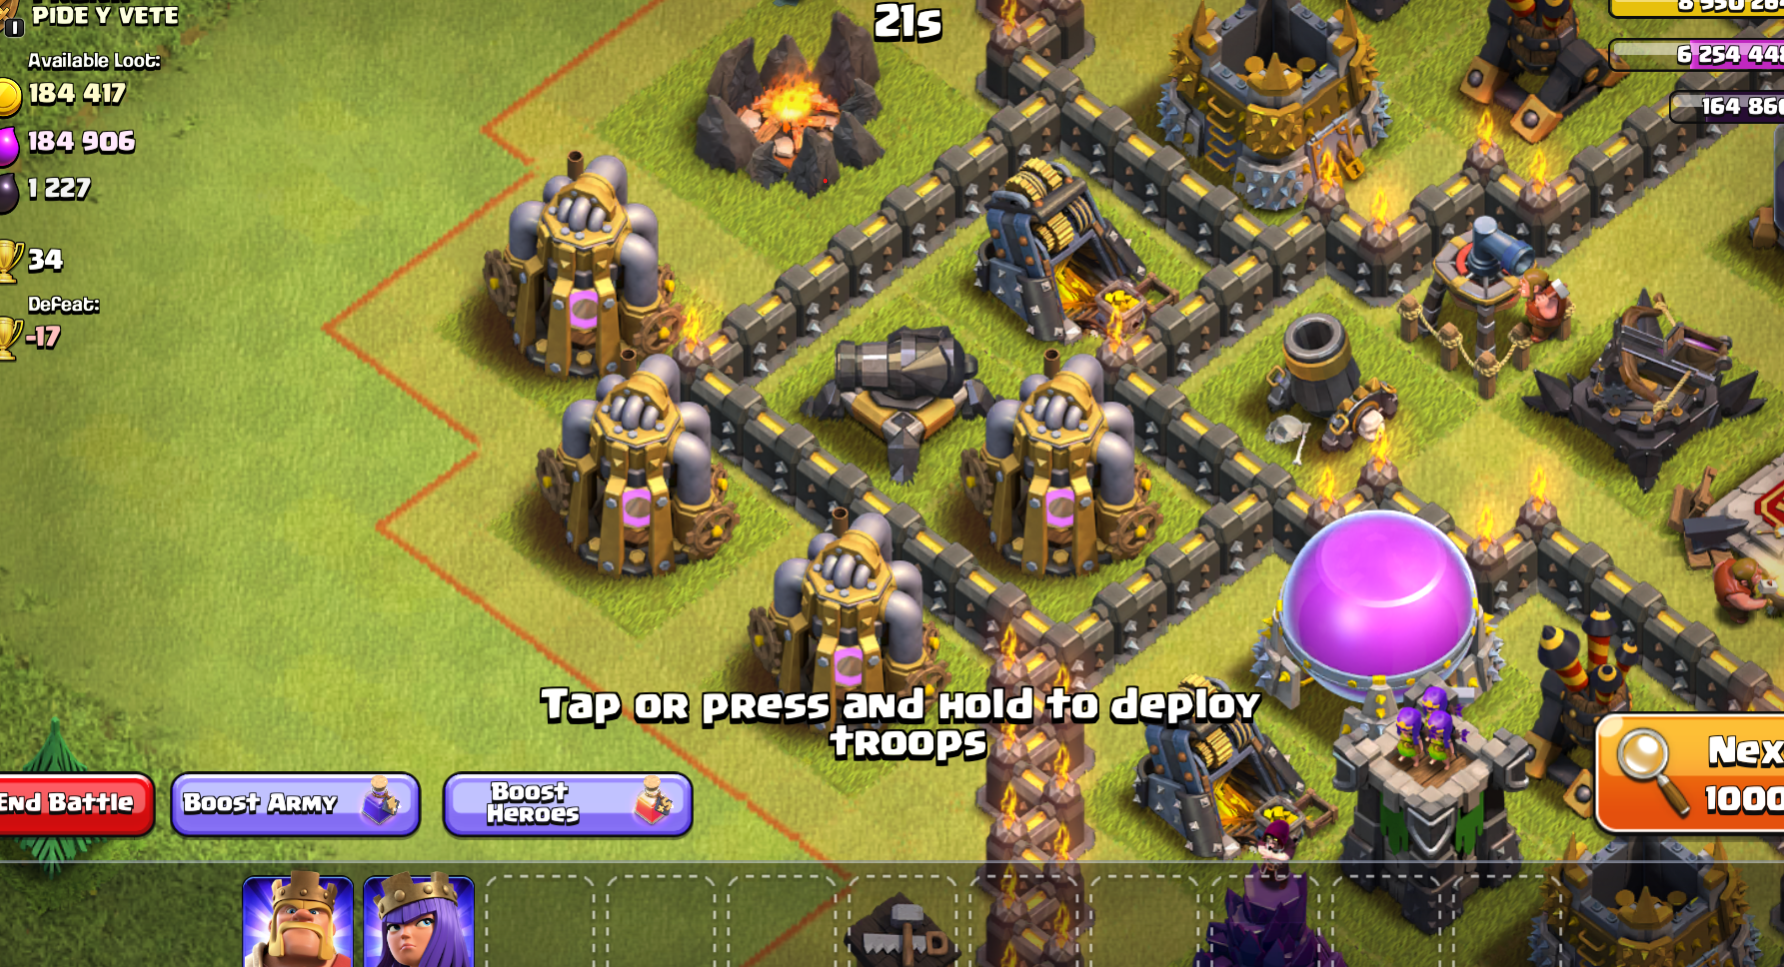elixir_colector: (529, 350, 730, 610), (741, 498, 946, 743), (966, 347, 1156, 595), (482, 163, 679, 395)
gold_mine: (973, 148, 1187, 354), (1112, 678, 1321, 871)
